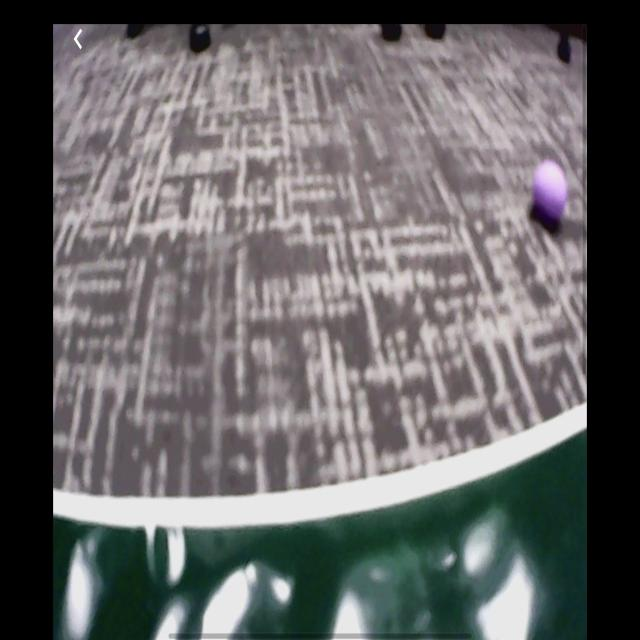ball: (531, 157, 568, 219)
